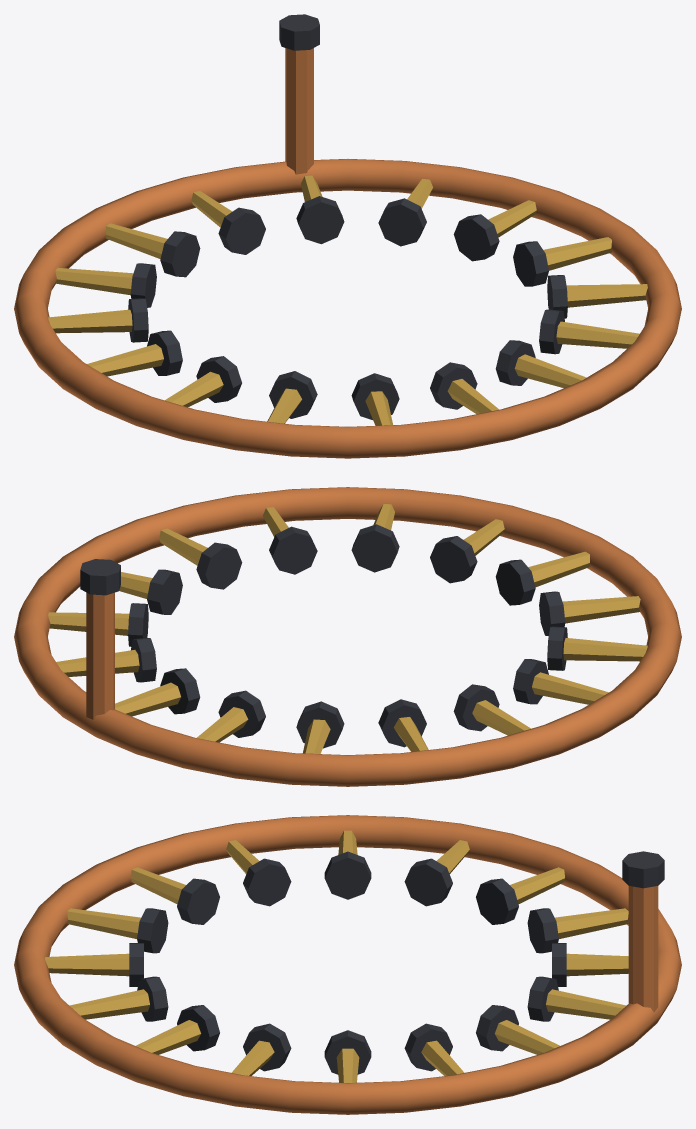
The model's file is fuelmanifold_quality.glb.
3 views of the same model, one above another, from view 1: azimuth 30°, elevation 25°; view 2: azimuth 150°, elevation 25°; view 3: azimuth 270°, elevation 25° (orthographic).
Visible parts, largest first — view 1: fuelmanifold_quality; view 2: fuelmanifold_quality; view 3: fuelmanifold_quality.
Part boxes in pixels (<box>): fuelmanifold_quality: <box>14,14,681,458</box>; fuelmanifold_quality: <box>14,487,681,786</box>; fuelmanifold_quality: <box>14,815,681,1114</box>.
Bounding box in the file's own units: 0.2528 × 0.0728 × 0.2528.
